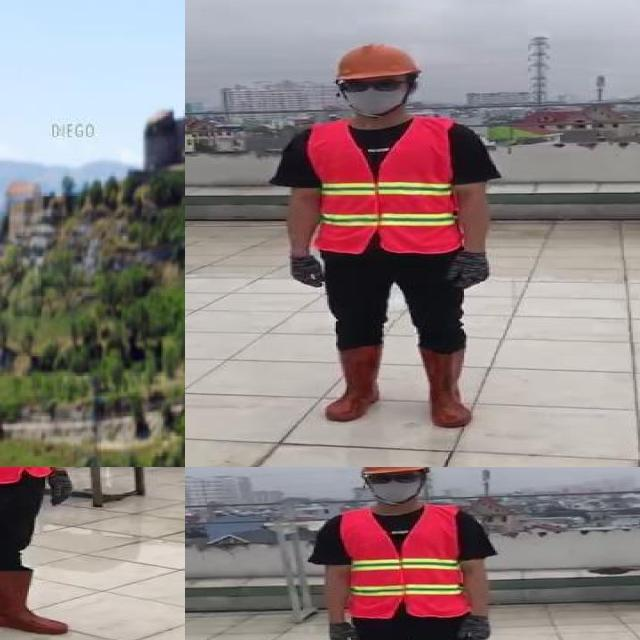boots: (416, 347, 473, 428), (322, 345, 380, 423), (0, 570, 71, 632)
face_mask: (338, 76, 409, 114), (362, 468, 424, 504)
glasses: (335, 78, 408, 96), (360, 471, 426, 486)
hand_glove: (447, 251, 492, 291), (288, 256, 327, 292), (45, 470, 72, 512), (457, 615, 493, 640), (326, 621, 361, 640)
head_helmet: (331, 42, 423, 80), (361, 467, 425, 474)
person: (270, 36, 508, 432), (304, 467, 498, 640), (0, 467, 73, 640)
vest: (309, 117, 475, 254), (339, 504, 470, 619)
